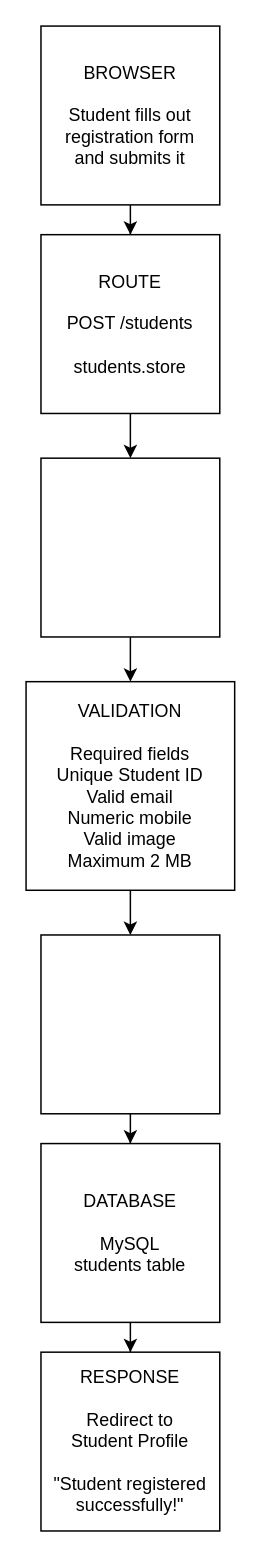
Some shapes in this 261 by 1557 pixel diagram are drawn without their labels. Each missing label, with the centre of its shape:
"CONTROLLER StudentController store()" belongs at point 129,547.
"MODEL Student::create() Stores validated student information" belongs at point 129,1023.
